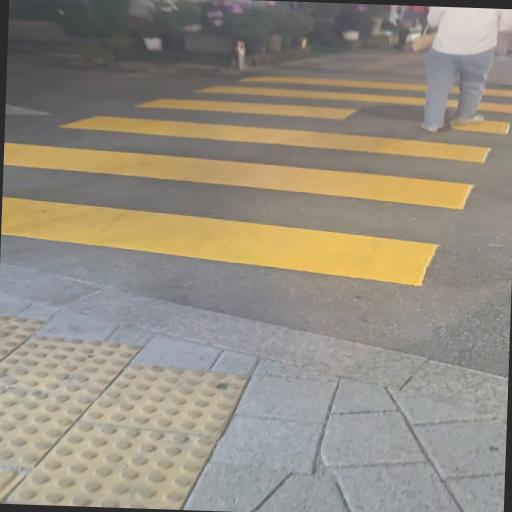yellow-crosswalk: (0, 54, 512, 297)
